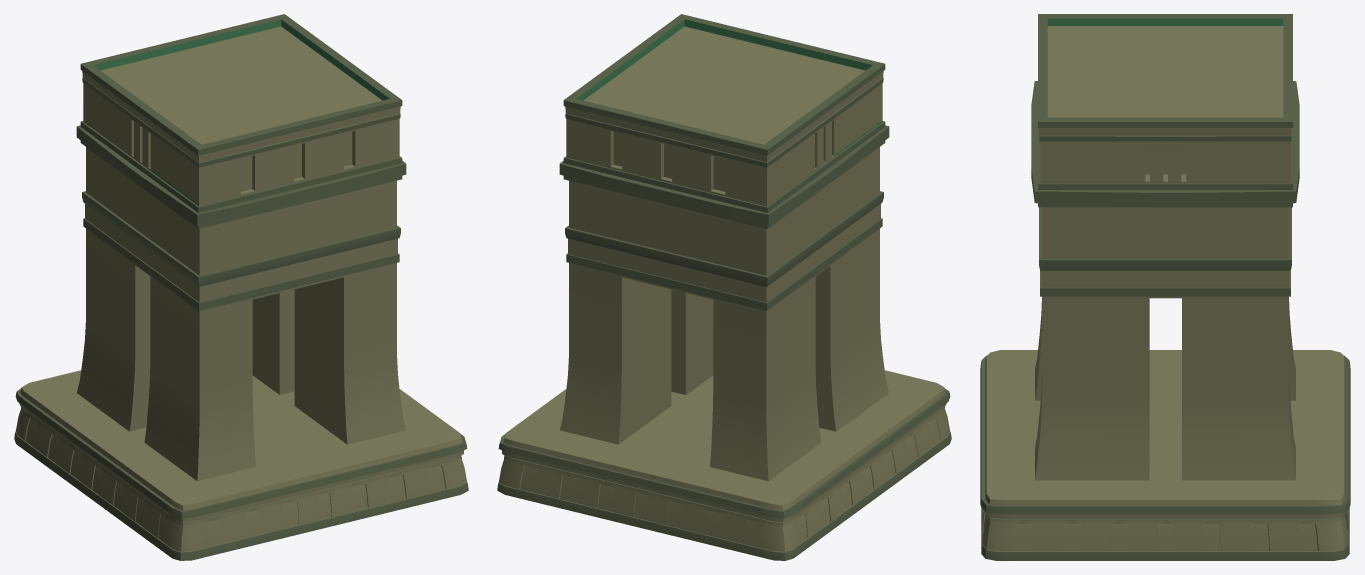
The model's file is temple_small.fbx.
3 views of the same model, side by side, from view 1: azimuth 30°, elevation 25°; view 2: azimuth 150°, elevation 25°; view 3: azimuth 270°, elevation 25° (orthographic). The views are drawn at different scales.
Parts seen in each view (by area): view 1: temple_small; view 2: temple_small; view 3: temple_small.
Part boxes in pixels (bbox=[...]): temple_small: bbox=[14, 14, 468, 560]; temple_small: bbox=[497, 14, 951, 560]; temple_small: bbox=[980, 14, 1350, 560].
Bounding box in the file's own units: 4.63 × 5.76 × 4.66.
